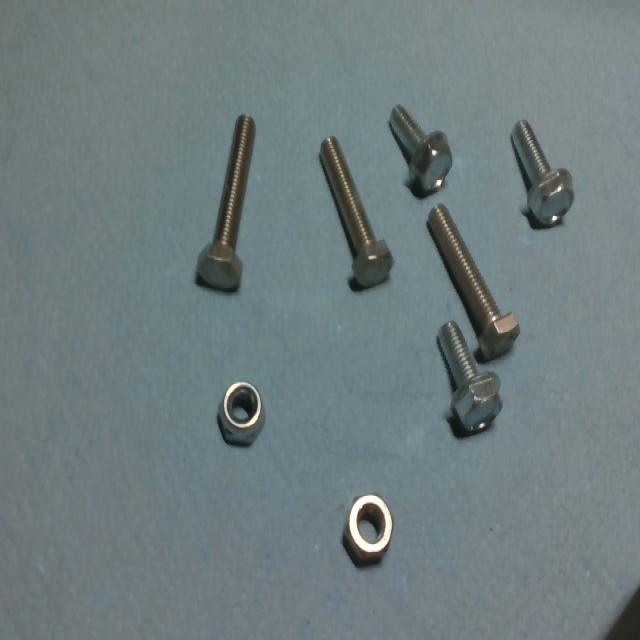Bolt: (426, 204, 520, 359), (318, 137, 394, 285), (196, 115, 255, 291), (436, 321, 501, 433), (510, 120, 573, 224), (387, 105, 453, 195)
Nut: (342, 495, 394, 568), (217, 381, 264, 448)
